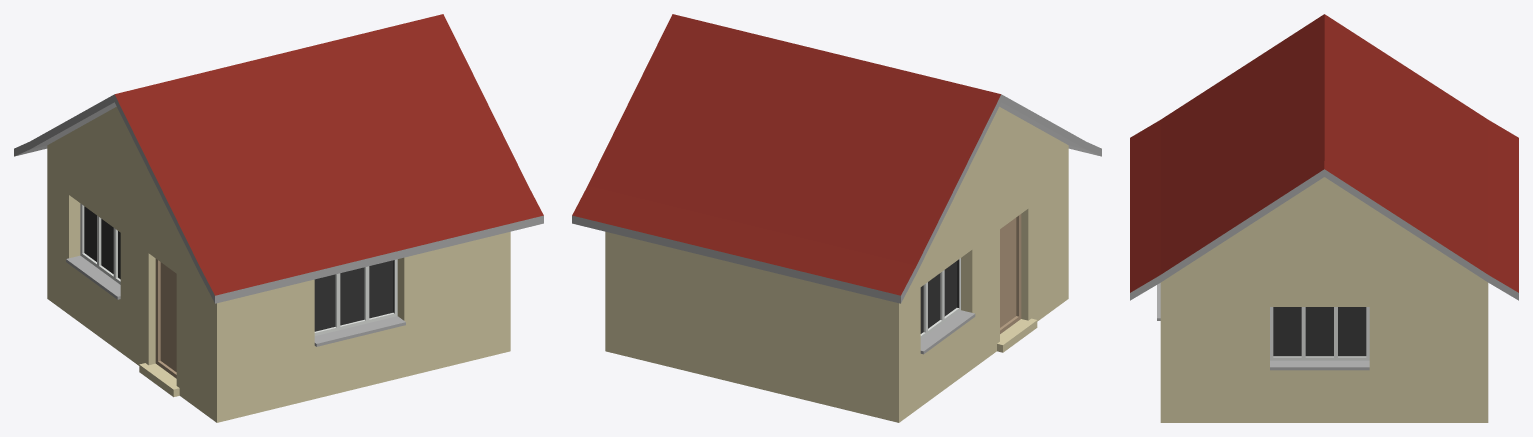
Rendered from house_gable.gltf.
3 renders of one model, left to right at view 1: azimuth 30°, elevation 25°; view 2: azimuth 150°, elevation 25°; view 3: azimuth 270°, elevation 25°, orthographic. The views are drawn at different scales.
Visible parts, largest first — view 1: house_gable; view 2: house_gable; view 3: house_gable.
Boxes of the visible parts, x1,y1,x2,y2 form: house_gable: [14, 14, 543, 422]; house_gable: [572, 14, 1101, 422]; house_gable: [1130, 14, 1518, 422].
Size of the model in its own units: 5.84 by 4.6 by 6.18.
